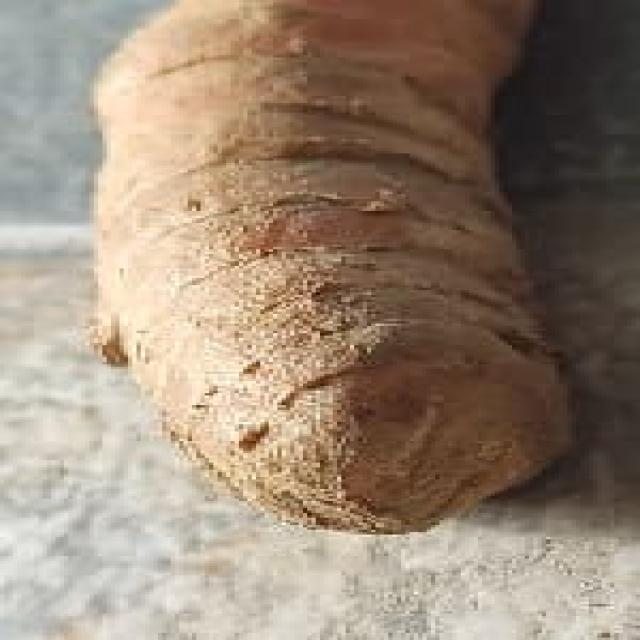ginger: (101, 0, 562, 507)
